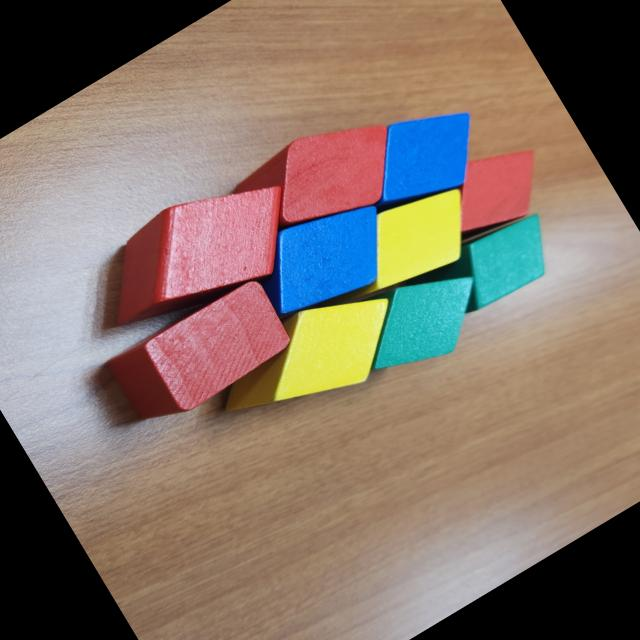blue: (239, 179, 409, 335), (340, 86, 499, 230)
green: (337, 244, 502, 395), (432, 201, 566, 320)
red: (76, 152, 318, 358), (226, 94, 418, 264), (104, 272, 298, 436), (432, 128, 562, 250)
yellow: (200, 264, 426, 452), (316, 168, 494, 320)
